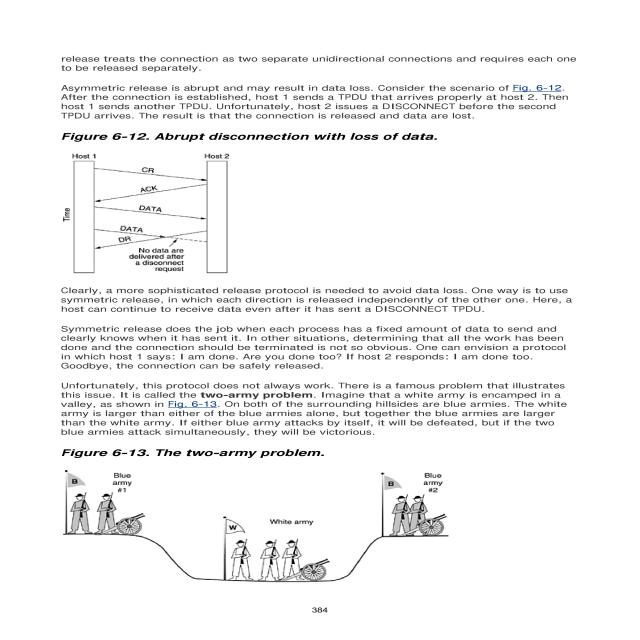diagram: (35, 440, 578, 598), (32, 126, 465, 284), (639, 281, 640, 324)
